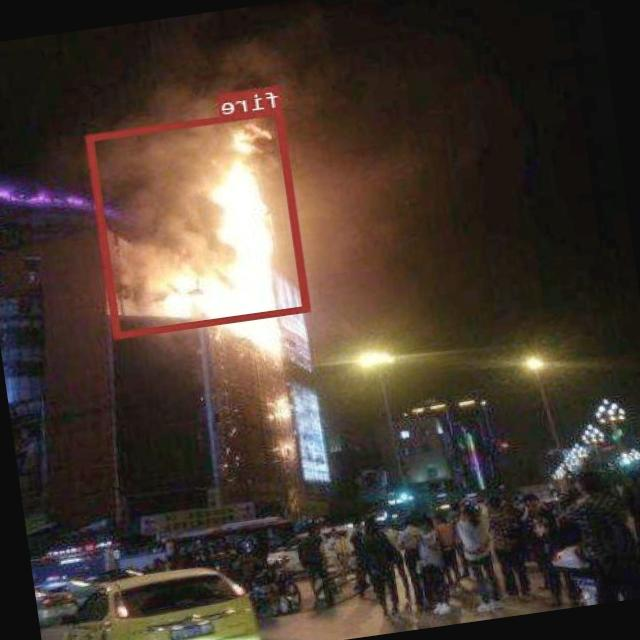fire: (87, 106, 312, 338)
